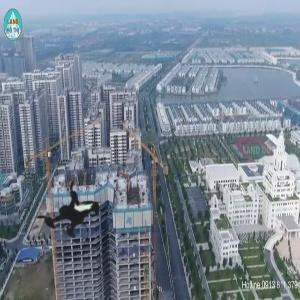drone: (11, 156, 138, 283)
